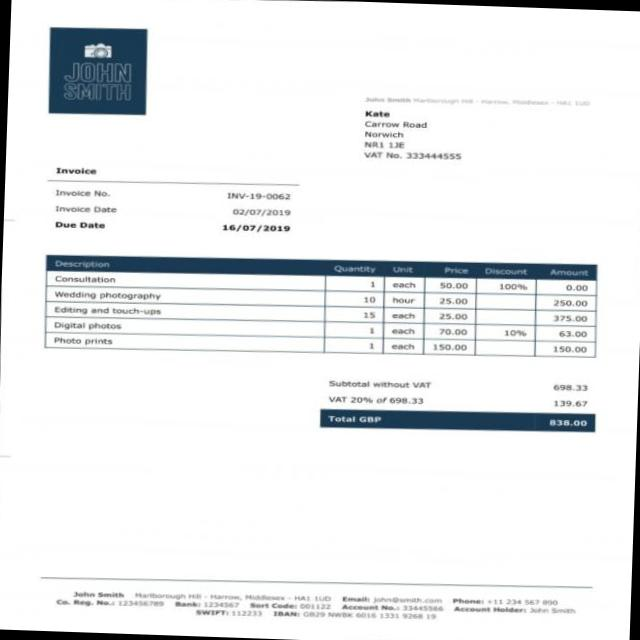customer_name: (362, 115, 435, 130)
due_date: (218, 220, 291, 236)
invoice_date: (226, 204, 294, 218)
invoice_number: (222, 185, 291, 202)
invoice_subtotal: (550, 378, 594, 393)
invoice_total: (539, 414, 597, 432), (547, 342, 594, 356)
item_description: (44, 272, 170, 352)
item_quantity: (348, 277, 378, 351)
item_total_price: (546, 280, 592, 358)
item_unit_price: (430, 277, 472, 354)
supplier_address: (360, 129, 416, 151)
supplier_name: (56, 60, 136, 106)
tax_amount: (550, 396, 593, 411)
